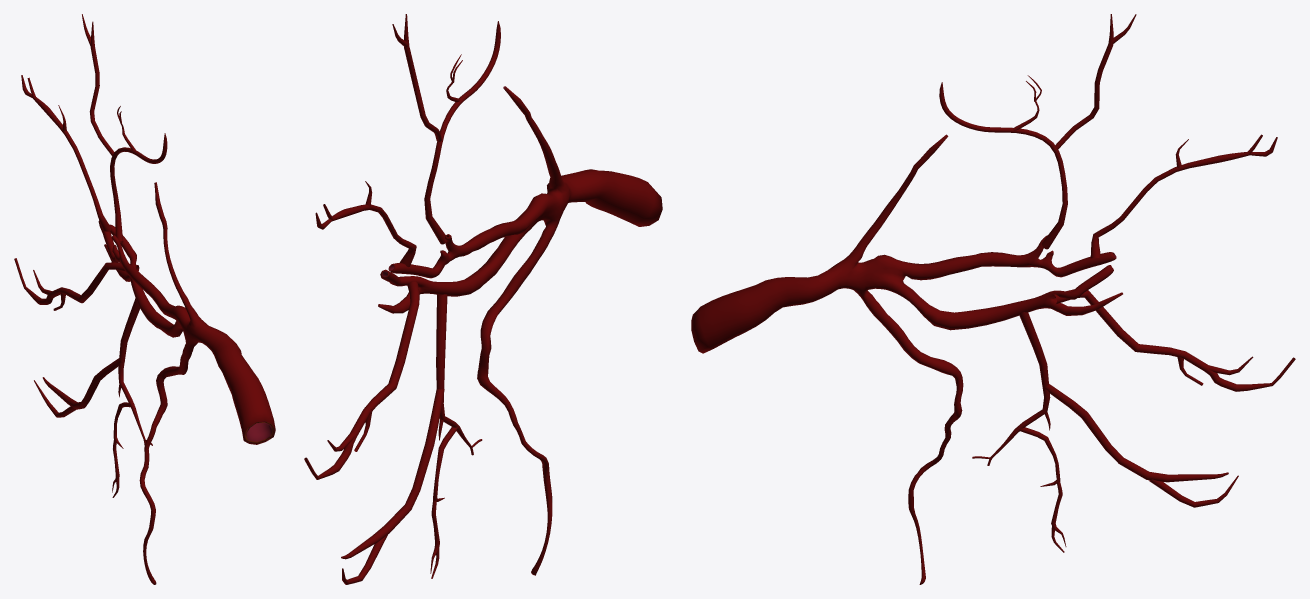
Rendered from Arteria_Completo.glb.
The picture shows the model from 3 angles, left to right: view 1: azimuth 30°, elevation 25°; view 2: azimuth 150°, elevation 25°; view 3: azimuth 270°, elevation 25°; orthographic projection. The views are drawn at different scales.
Parts seen in each view (by area): view 1: ARTERIA_CORTE.001; view 2: ARTERIA_CORTE.001; view 3: ARTERIA_CORTE.001.
Part boxes in pixels (left/top/right/bottom): ARTERIA_CORTE.001: left=14, top=14, right=275, bottom=584; ARTERIA_CORTE.001: left=304, top=14, right=662, bottom=584; ARTERIA_CORTE.001: left=691, top=14, right=1295, bottom=584.
Size of the model in its own units: 0.2953 by 2.35 by 2.21.
Materials: 1 (1 with a texture image).
